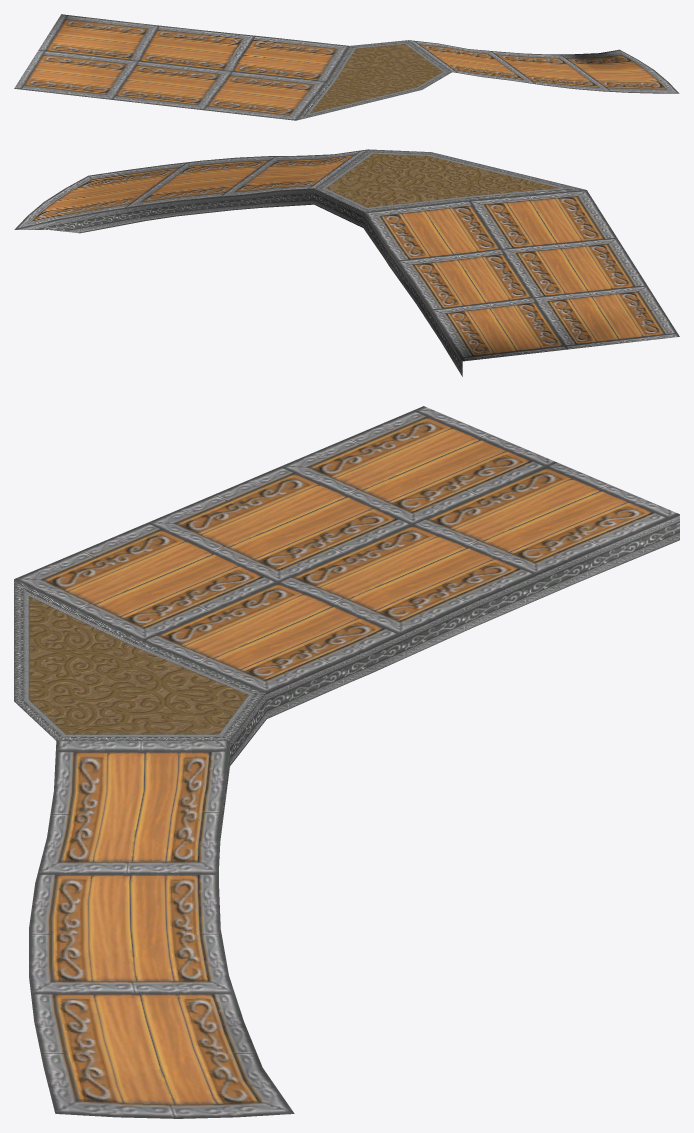
Rendered from EKH_BARRELROOM_PS_JA1_JA_LINE10.fbx.
The picture shows the model from 3 angles, top to bottom: view 1: azimuth 30°, elevation 25°; view 2: azimuth 150°, elevation 25°; view 3: azimuth 270°, elevation 25°; orthographic projection. The views are drawn at different scales.
Visible parts, largest first — view 1: EKH_BARRELROOM_PS_JA1_JA_LINE10; view 2: EKH_BARRELROOM_PS_JA1_JA_LINE10; view 3: EKH_BARRELROOM_PS_JA1_JA_LINE10.
Boxes of the visible parts, x1,y1,x2,y2 form: EKH_BARRELROOM_PS_JA1_JA_LINE10: (14, 14, 679, 120); EKH_BARRELROOM_PS_JA1_JA_LINE10: (14, 149, 679, 376); EKH_BARRELROOM_PS_JA1_JA_LINE10: (14, 406, 679, 1118).
Size of the model in its own units: 152647 by 19412 by 76697.
Materials: 3 (3 with a texture image).
